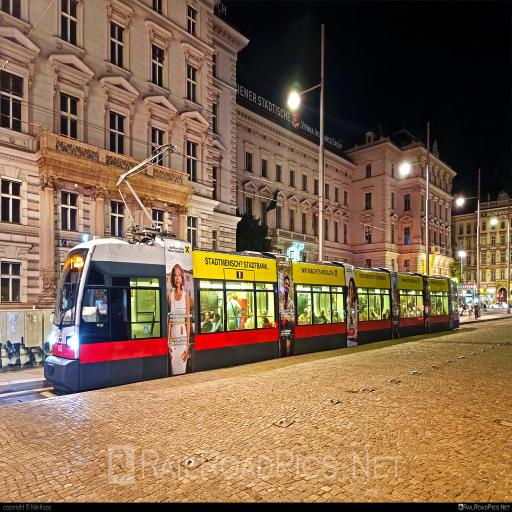ULF: (45, 239, 462, 381)
